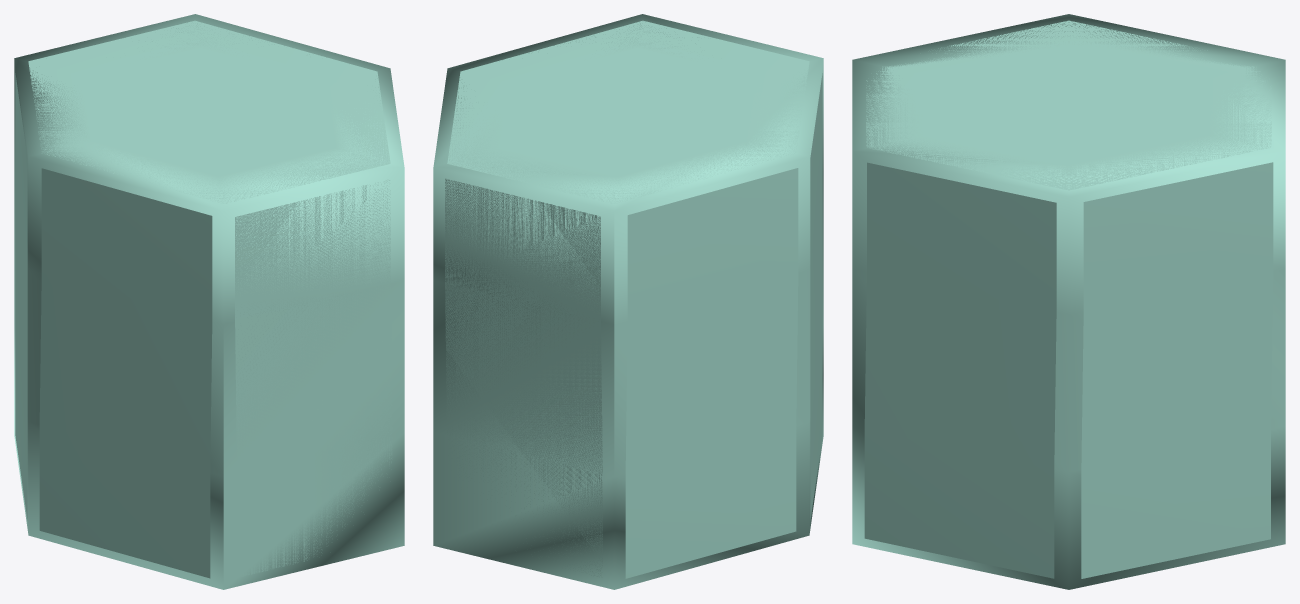
Rendered from space-kit__barrel.glb.
The picture shows the model from 3 angles, left to right: view 1: azimuth 30°, elevation 25°; view 2: azimuth 150°, elevation 25°; view 3: azimuth 270°, elevation 25°; orthographic projection. The views are drawn at different scales.
Parts seen in each view (by area): view 1: L0_accent, L1_accent; view 2: L0_accent, L1_accent; view 3: L0_accent, L1_accent.
Boxes of the visible parts, box(x1,y1,x2,y2) form: L0_accent: box(15, 20, 392, 578); L1_accent: box(14, 14, 404, 589); L0_accent: box(445, 20, 822, 578); L1_accent: box(433, 14, 823, 589); L0_accent: box(864, 20, 1273, 578); L1_accent: box(852, 14, 1285, 589).
Size of the model in its own units: 1 by 1 by 1.
